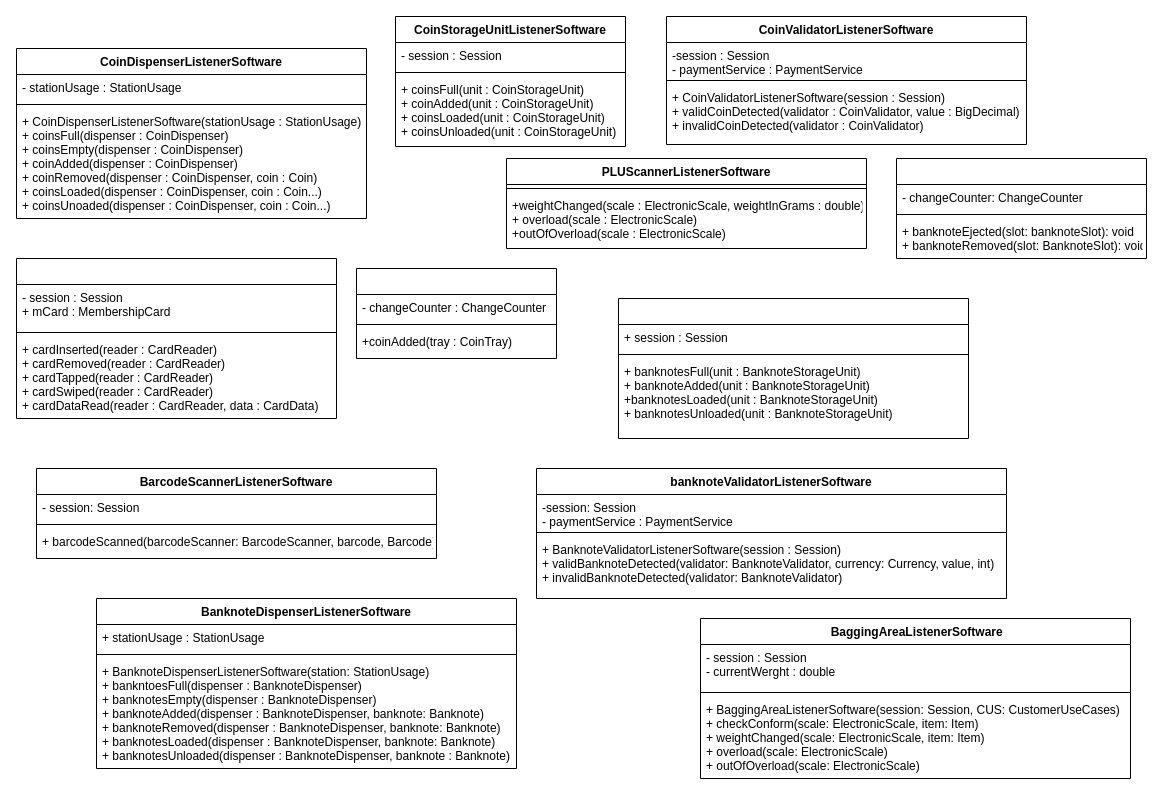
Image size: 1163x795. Some labels were removed from this diagram. The shapes that lost their labels are listed below. From the top down, each one's box as (x1, y1, x2, y2) in pixels, then its label:
(896, 158, 1146, 258): BanknoteSlotListenerSoftware
(356, 268, 556, 358): CoinTrayListenerSoftware
(16, 258, 336, 418): CardReaderListenerSoftware
(618, 298, 968, 438): BanknoteStorageUnitListenerSoftware
